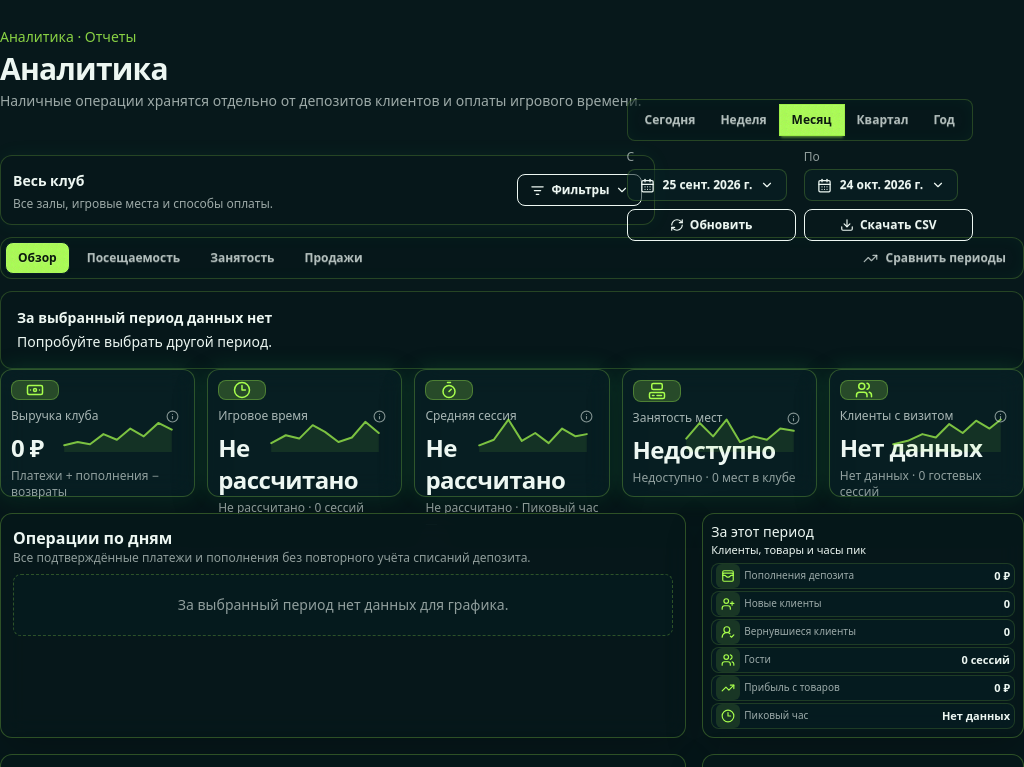
Test: AnalyticsView › loads the additive v2 dashboard and exposes comparison and product states
Expected: the text "Текущий период ещё не завершён" is not shown
Click the button "Сравнить периоды". click: (934, 258)
box: [850, 242, 1019, 274]
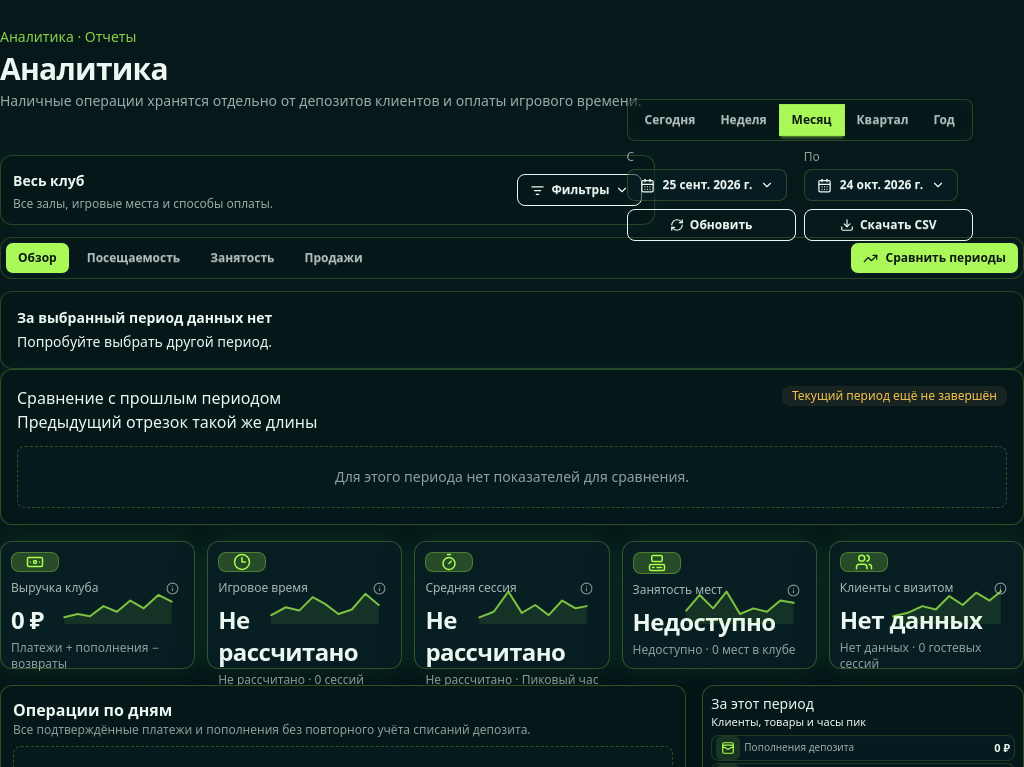
Now the text "Текущий период ещё не завершён" is shown, box [782, 386, 1007, 406]
Click the tab "Продажи". click: (334, 258)
box: [291, 242, 376, 274]
(page scrolled)
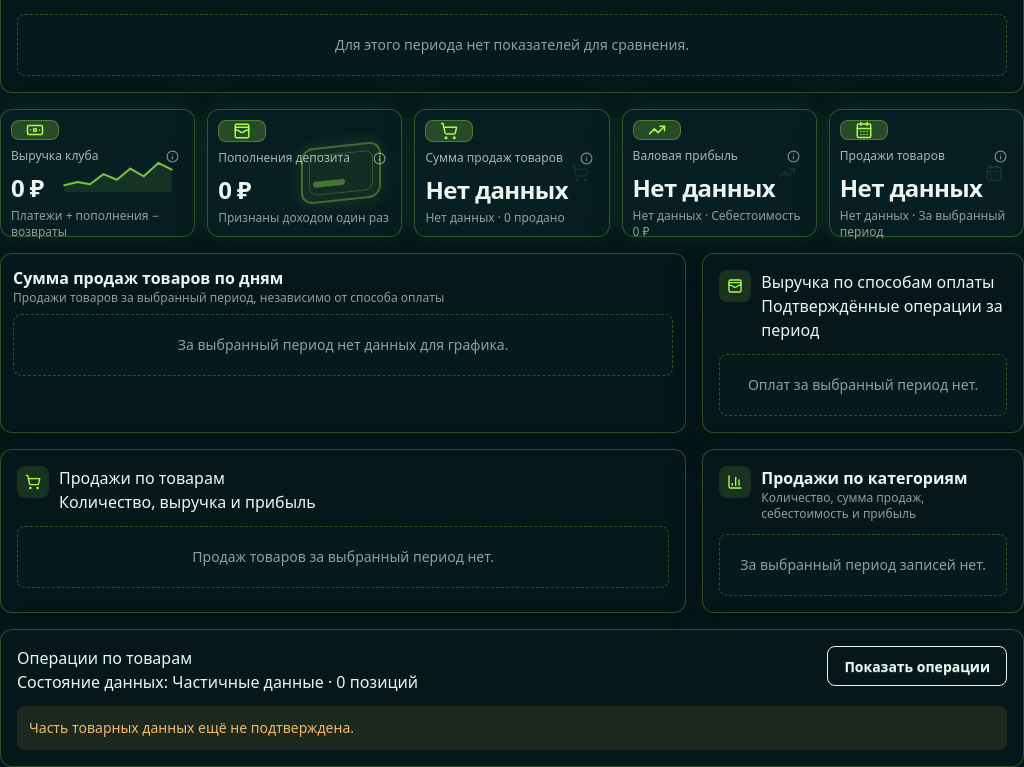
Now the text "Состояние данных: Частичные данные · 0 позиций" is shown, box [17, 670, 418, 694]
